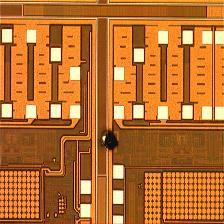PARTICLE: (98, 130, 121, 152)
